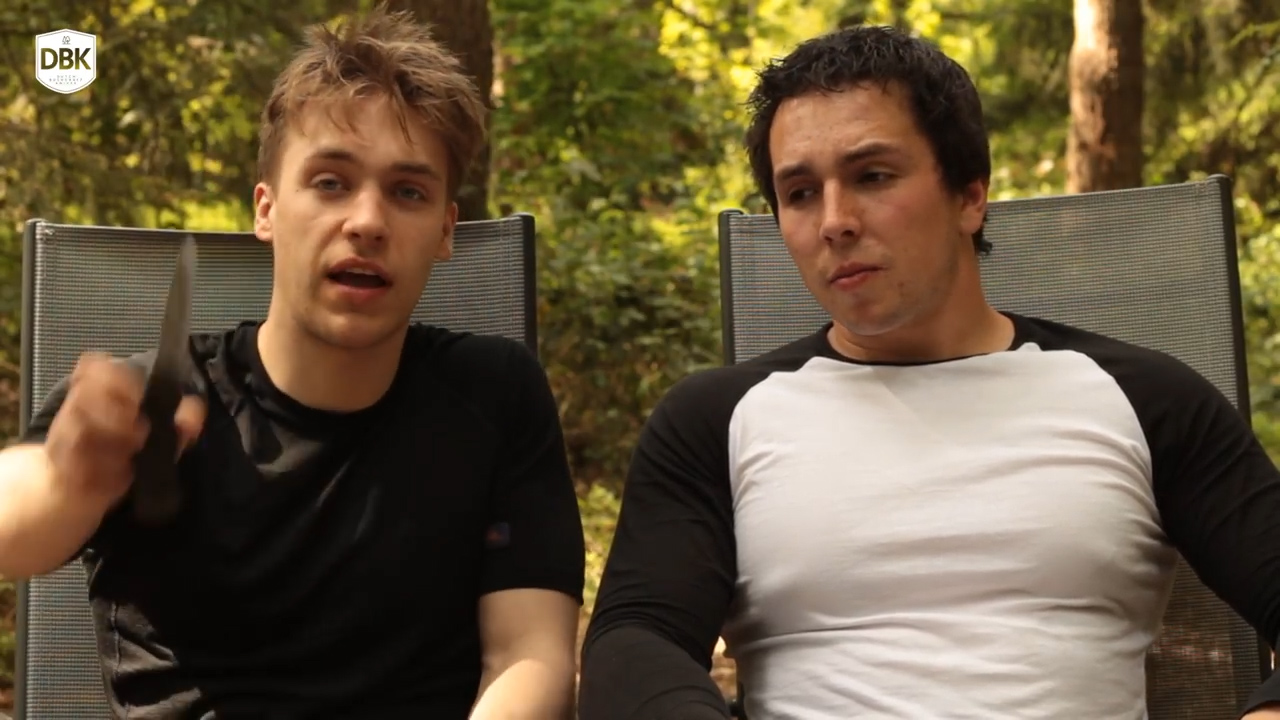knife: (108, 222, 212, 435)
